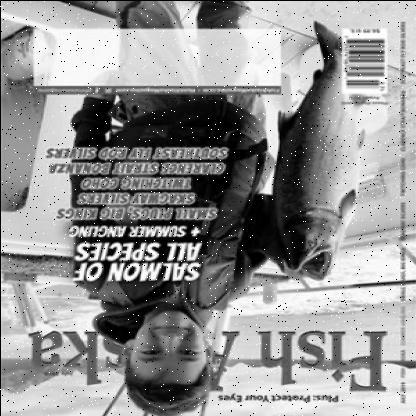fish: (272, 20, 372, 283)
